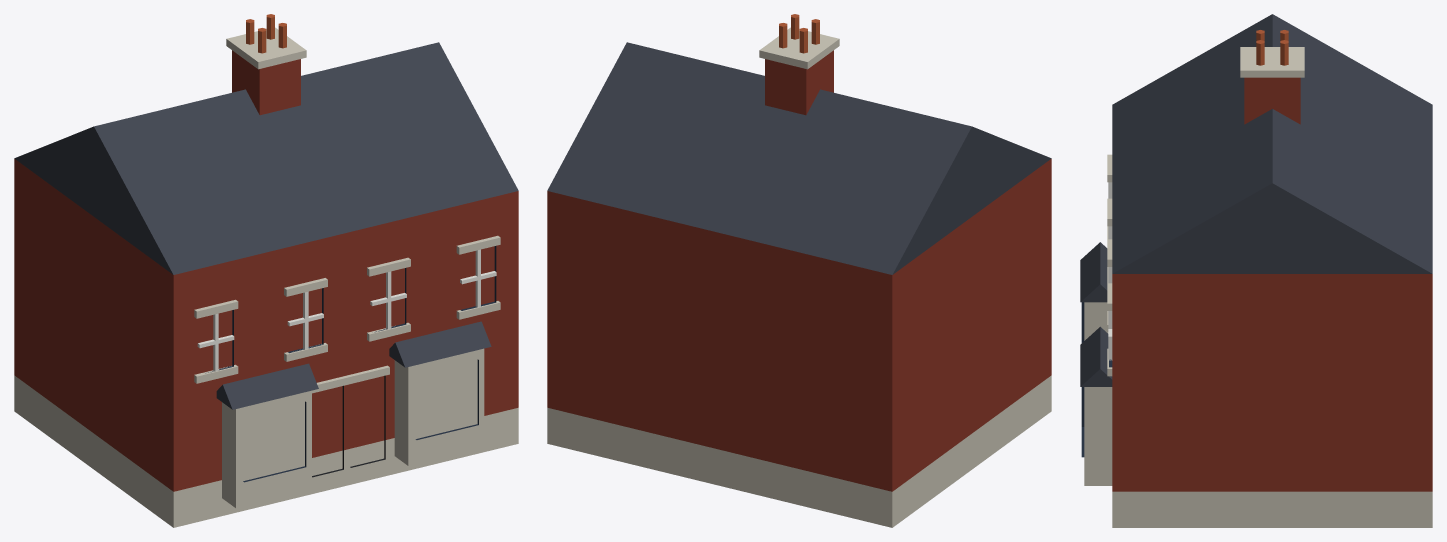
File: building_london_s1_redbrick_terrace.glb
The picture shows the model from 3 angles, left to right: view 1: azimuth 30°, elevation 25°; view 2: azimuth 150°, elevation 25°; view 3: azimuth 270°, elevation 25°; orthographic projection.
Visible parts, largest first — view 1: building_london_s1_redbrick_terrace; view 2: building_london_s1_redbrick_terrace; view 3: building_london_s1_redbrick_terrace.
Part boxes in pixels (x1,y1,x2,y2): building_london_s1_redbrick_terrace: (14,14,518,527); building_london_s1_redbrick_terrace: (547,14,1051,527); building_london_s1_redbrick_terrace: (1080,14,1432,527).
Size of the model in its own units: 10 by 11.2 by 8.8.
Materials: 1 (1 with a texture image).
